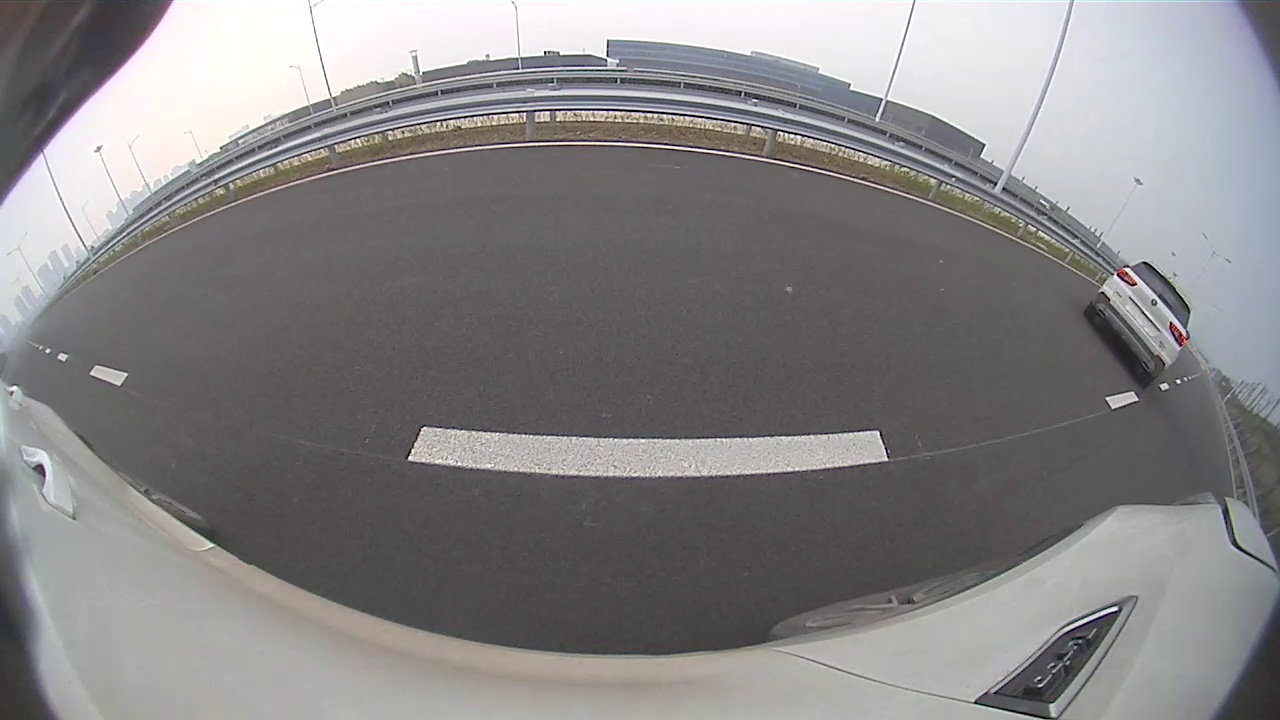car: (1085, 259, 1192, 384)
